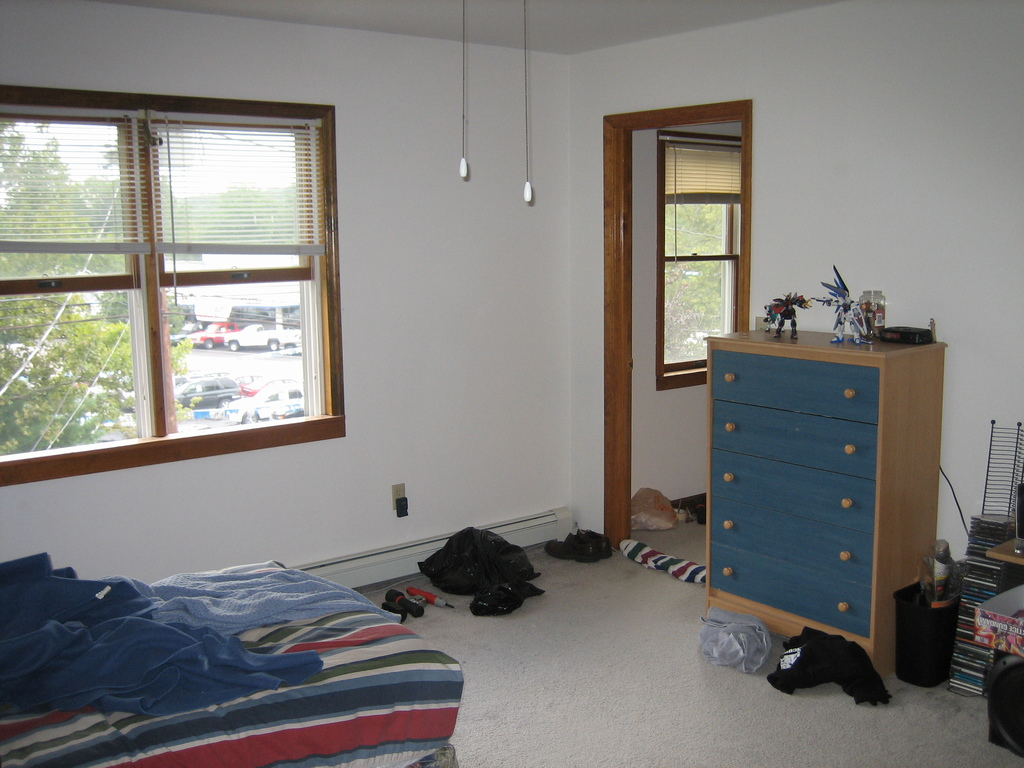cabinet door: (715, 550, 867, 637), (715, 397, 866, 470), (713, 499, 868, 567), (714, 457, 871, 513), (718, 361, 866, 414)
handle: (836, 542, 855, 570), (718, 367, 738, 393), (844, 382, 862, 410), (838, 493, 857, 517), (845, 438, 861, 464), (721, 416, 738, 439), (719, 466, 737, 487), (722, 562, 738, 585), (839, 594, 852, 618), (723, 514, 738, 534)
